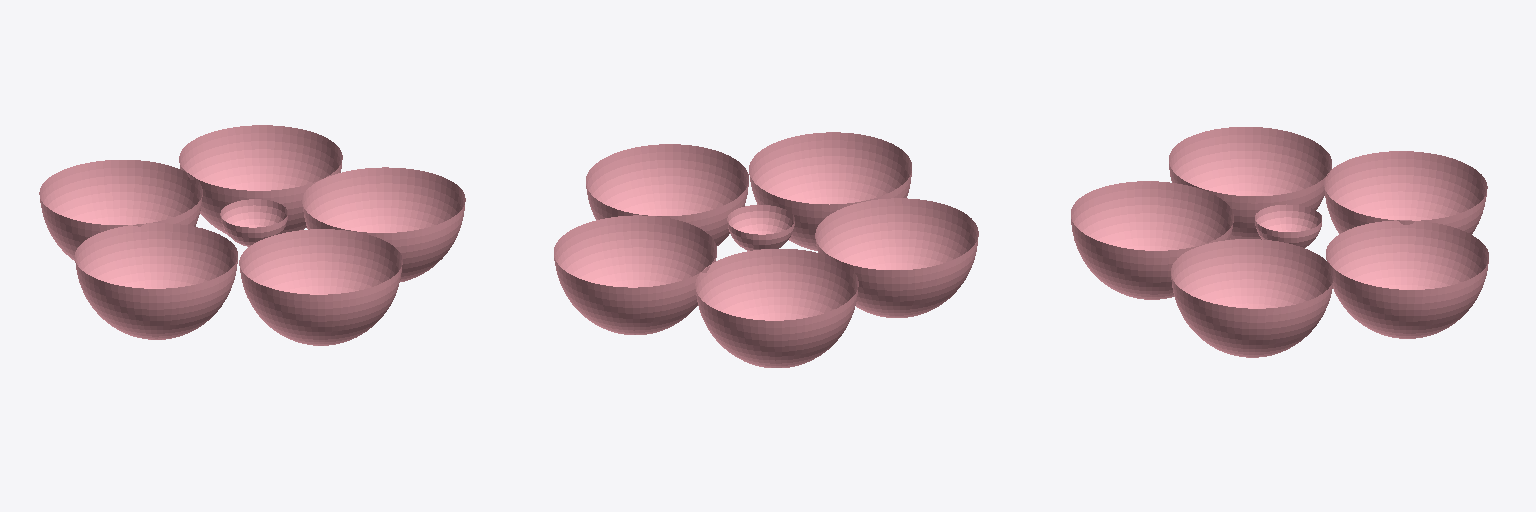
3 renders of one model, left to right at view 1: azimuth 30°, elevation 25°; view 2: azimuth 150°, elevation 25°; view 3: azimuth 270°, elevation 25°, orthographic.
Visible parts, largest first — view 1: Object011; view 2: Object011; view 3: Object011.
Boxes of the visible parts, <box> form: Object011: <box>39,125,465,345</box>; Object011: <box>554,132,978,367</box>; Object011: <box>1071,127,1488,357</box>.
Bounding box in the file's own units: 52.17 × 11.44 × 51.14.
1 materials, 1 textured.